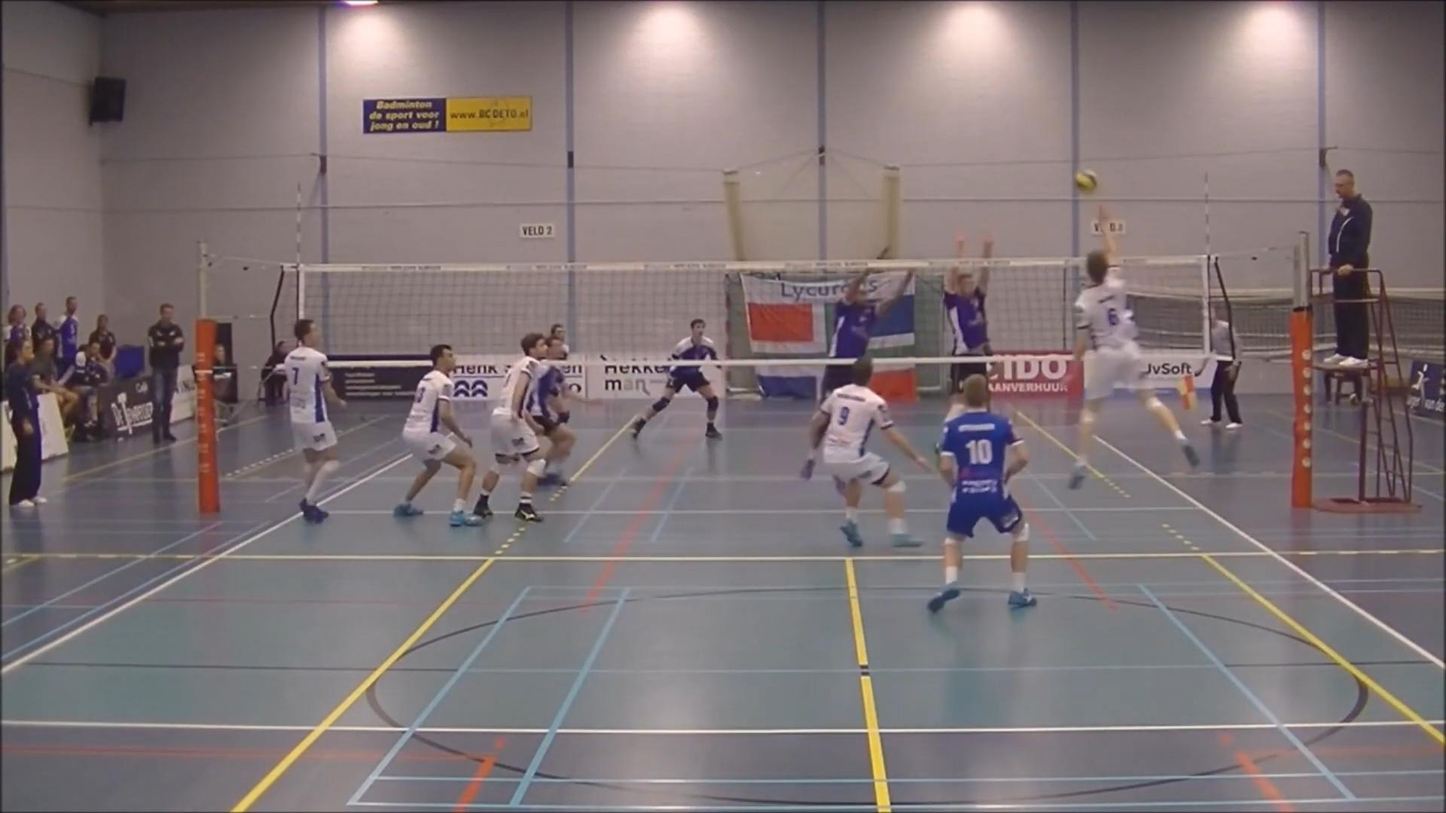attacco: (1044, 201, 1205, 476), (807, 233, 919, 391), (929, 222, 1015, 421)
